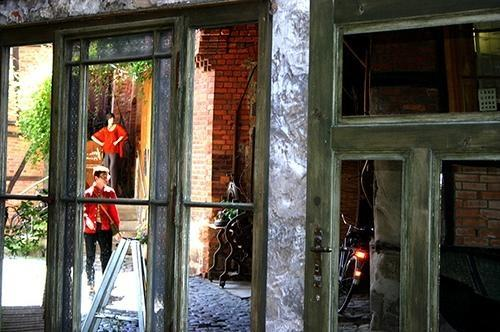bicycle: (338, 212, 374, 314)
